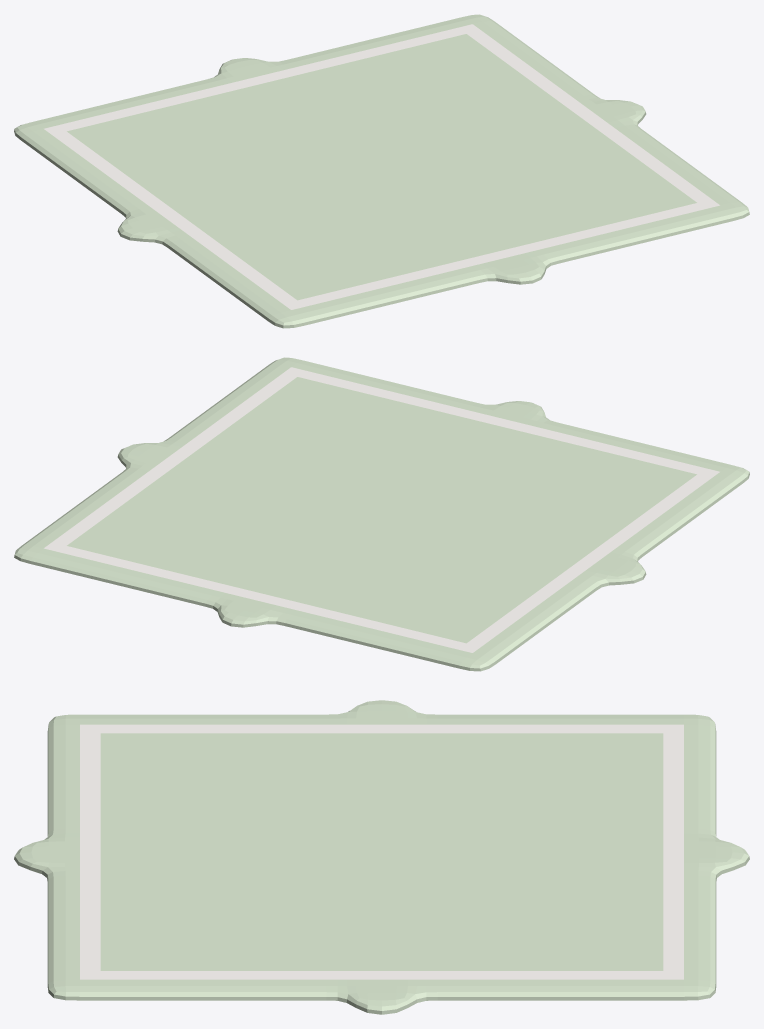
Rendered from Floor.glb.
The picture shows the model from 3 angles, top to bottom: view 1: azimuth 30°, elevation 25°; view 2: azimuth 150°, elevation 25°; view 3: azimuth 270°, elevation 25°; orthographic projection. The views are drawn at different scales.
Visible parts, largest first — view 1: Floor; view 2: Floor; view 3: Floor.
Part boxes in pixels (box(x1,y1,x2,y2)): Floor: box(14, 14, 749, 328); Floor: box(14, 357, 749, 671); Floor: box(14, 700, 749, 1014).
Size of the model in its own units: 39.84 by 0.4259 by 39.84.
